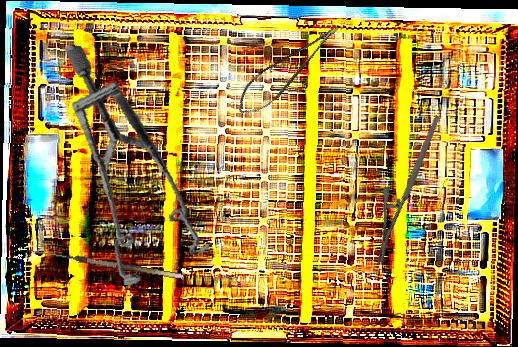Hook Surgical: (24, 246, 184, 288)
Micro Scissor: (227, 21, 353, 122)
Needle Holder: (337, 114, 481, 267)
Speculum: (25, 43, 242, 299)
